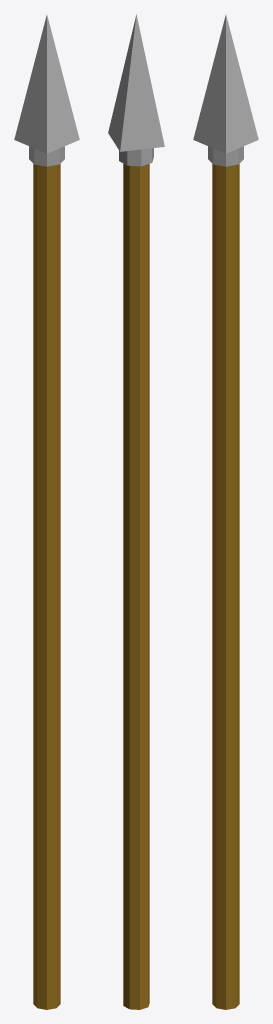
Rendered from bolt_1.glb.
The picture shows the model from 3 angles, left to right: view 1: azimuth 90°, elevation 25°; view 2: azimuth 150°, elevation 25°; view 3: azimuth 270°, elevation 25°; orthographic projection.
Parts seen in each view (by area): view 1: bolt_1; view 2: bolt_1; view 3: bolt_1.
Boxes of the visible parts, x1,y1,x2,y2 form: bolt_1: (14,15,79,1009); bolt_1: (108,14,164,1009); bolt_1: (193,15,258,1009).
Size of the model in its own units: 0.0167 by 0.2781 by 0.0167.
1 material, 1 textured.
